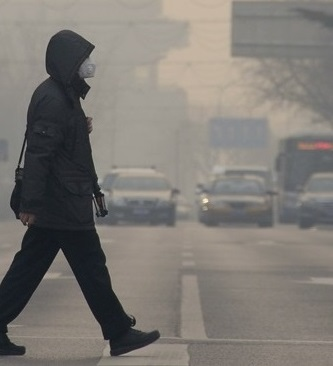person: (5, 29, 164, 358)
